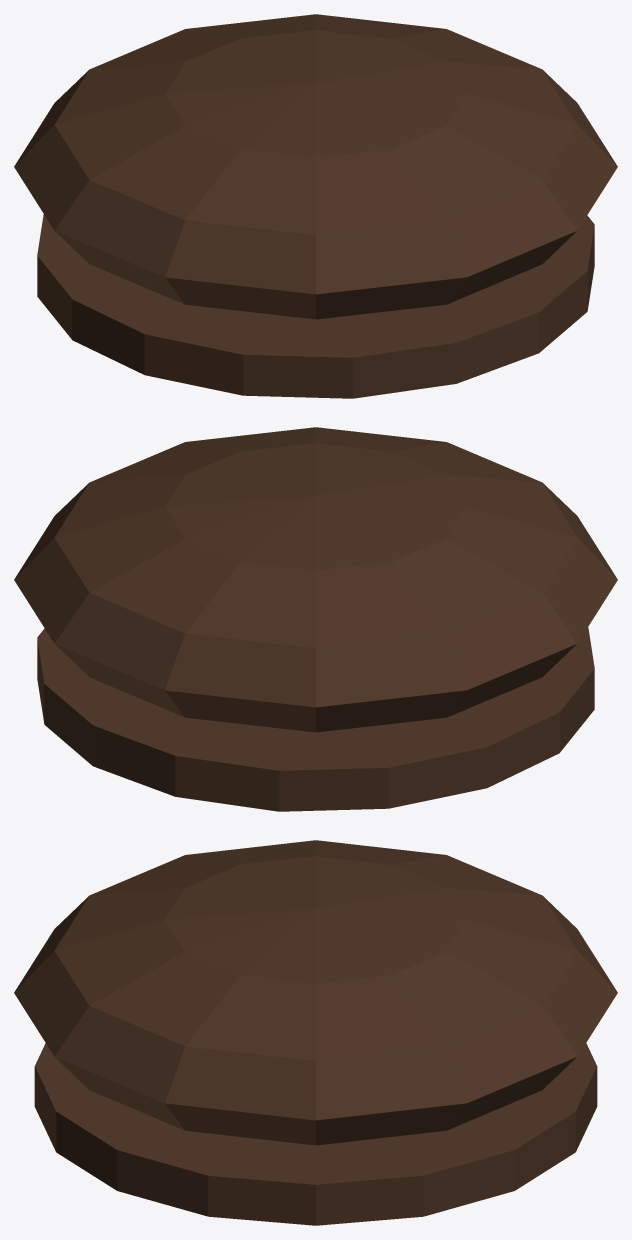
File: Hamburger_Bun_OverBurnt.fbx
The picture shows the model from 3 angles, top to bottom: view 1: azimuth 30°, elevation 25°; view 2: azimuth 150°, elevation 25°; view 3: azimuth 270°, elevation 25°; orthographic projection.
Parts seen in each view (by area): view 1: GPV2_Bread_OverBurnt_Upper_Bread, GPV2_Bread_OverBurnt_Lower_Bread; view 2: GPV2_Bread_OverBurnt_Upper_Bread, GPV2_Bread_OverBurnt_Lower_Bread; view 3: GPV2_Bread_OverBurnt_Upper_Bread, GPV2_Bread_OverBurnt_Lower_Bread.
Boxes of the visible parts, bbox=[...] form: GPV2_Bread_OverBurnt_Upper_Bread: bbox=[14, 14, 617, 319]; GPV2_Bread_OverBurnt_Lower_Bread: bbox=[37, 214, 594, 398]; GPV2_Bread_OverBurnt_Upper_Bread: bbox=[14, 427, 617, 732]; GPV2_Bread_OverBurnt_Lower_Bread: bbox=[37, 627, 594, 811]; GPV2_Bread_OverBurnt_Upper_Bread: bbox=[14, 840, 617, 1145]; GPV2_Bread_OverBurnt_Lower_Bread: bbox=[34, 1043, 597, 1225].
Size of the model in its own units: 0.29 by 0.1051 by 0.29.
